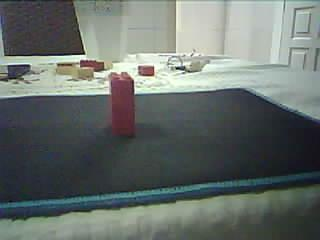lego: (108, 72, 135, 136), (78, 59, 112, 71), (55, 62, 78, 75), (72, 67, 94, 80), (137, 65, 154, 75)
